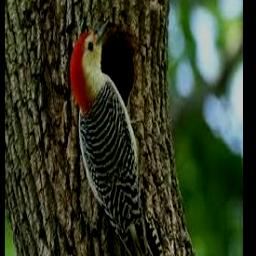Woodpecker: (70, 19, 171, 256)
